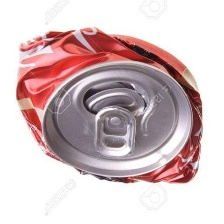can: (12, 15, 205, 186)
